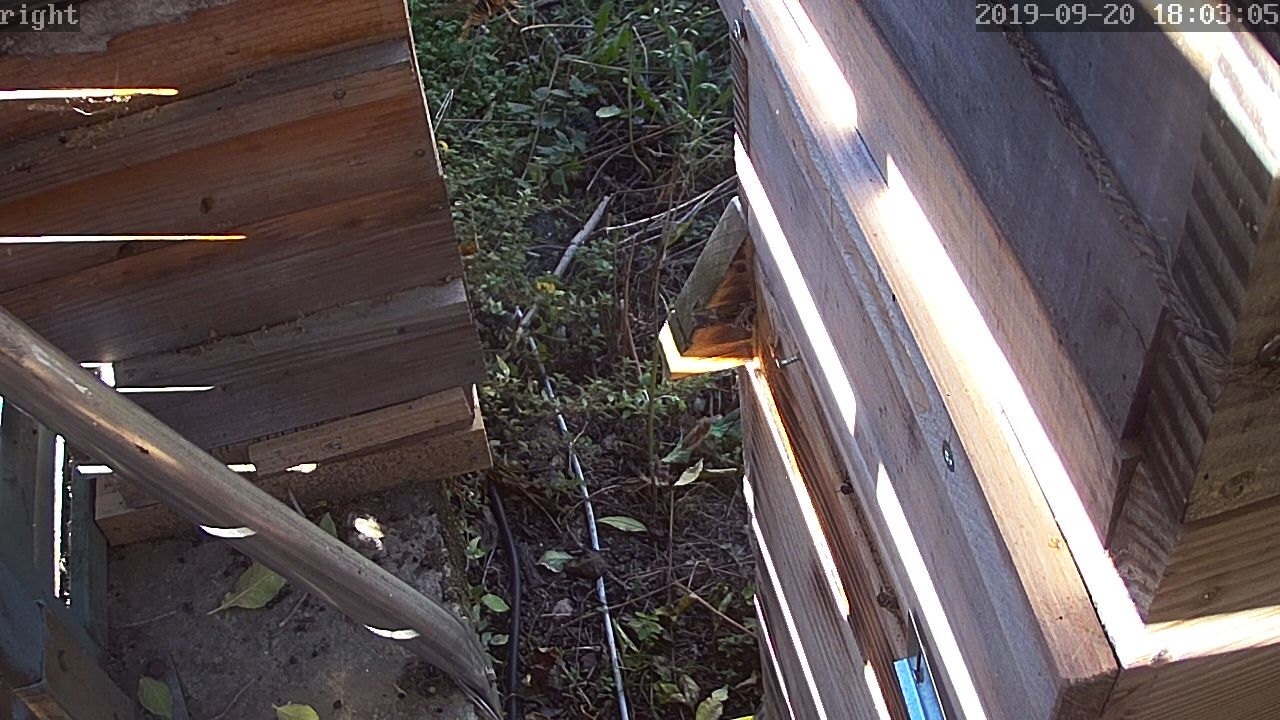bee: (871, 578, 901, 613)
